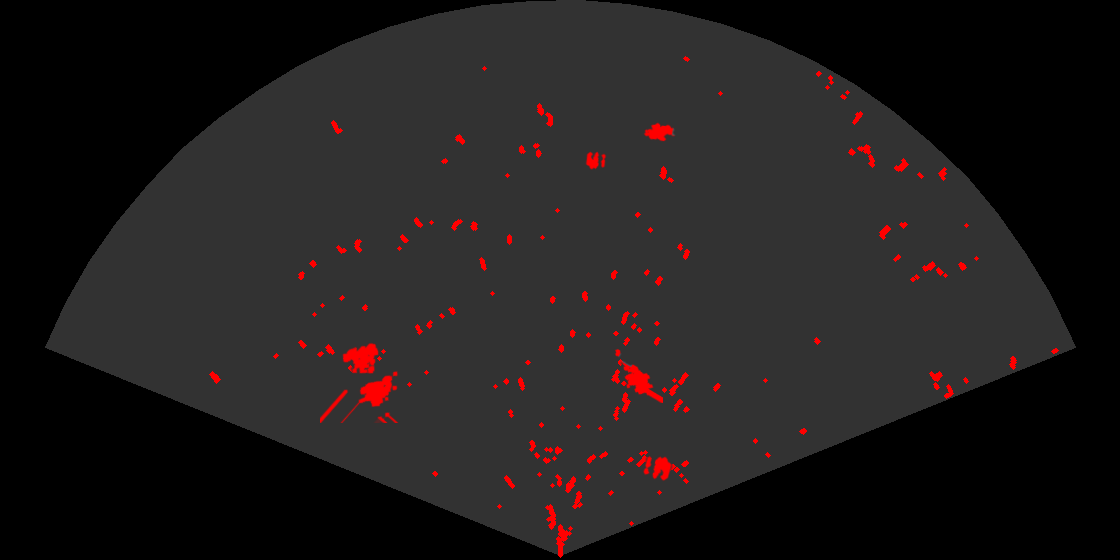AUV: (642, 121, 676, 143)
ball: (642, 455, 673, 483), (584, 150, 608, 171)
cage: (320, 341, 400, 423)
frogman: (613, 347, 663, 403)
